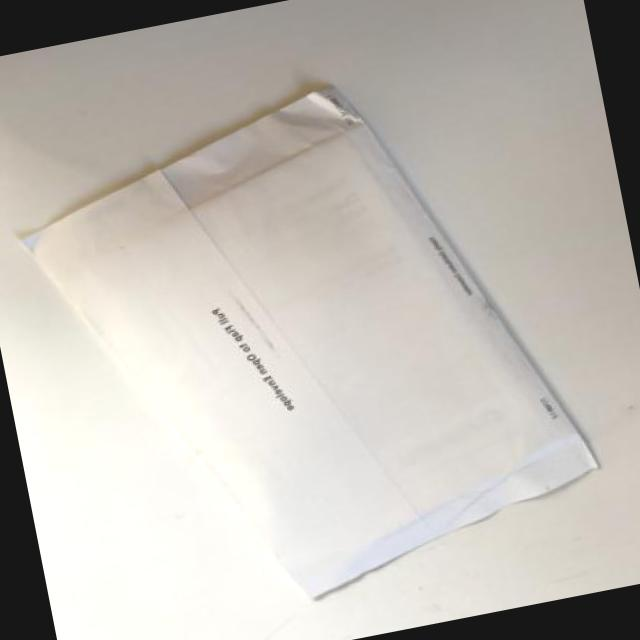paper: (59, 91, 592, 574)
